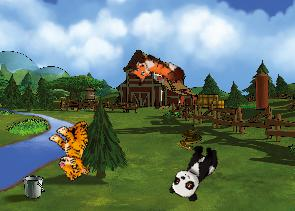fox: (125, 47, 186, 100)
panda: (166, 138, 223, 205)
tiger: (42, 115, 107, 183)
